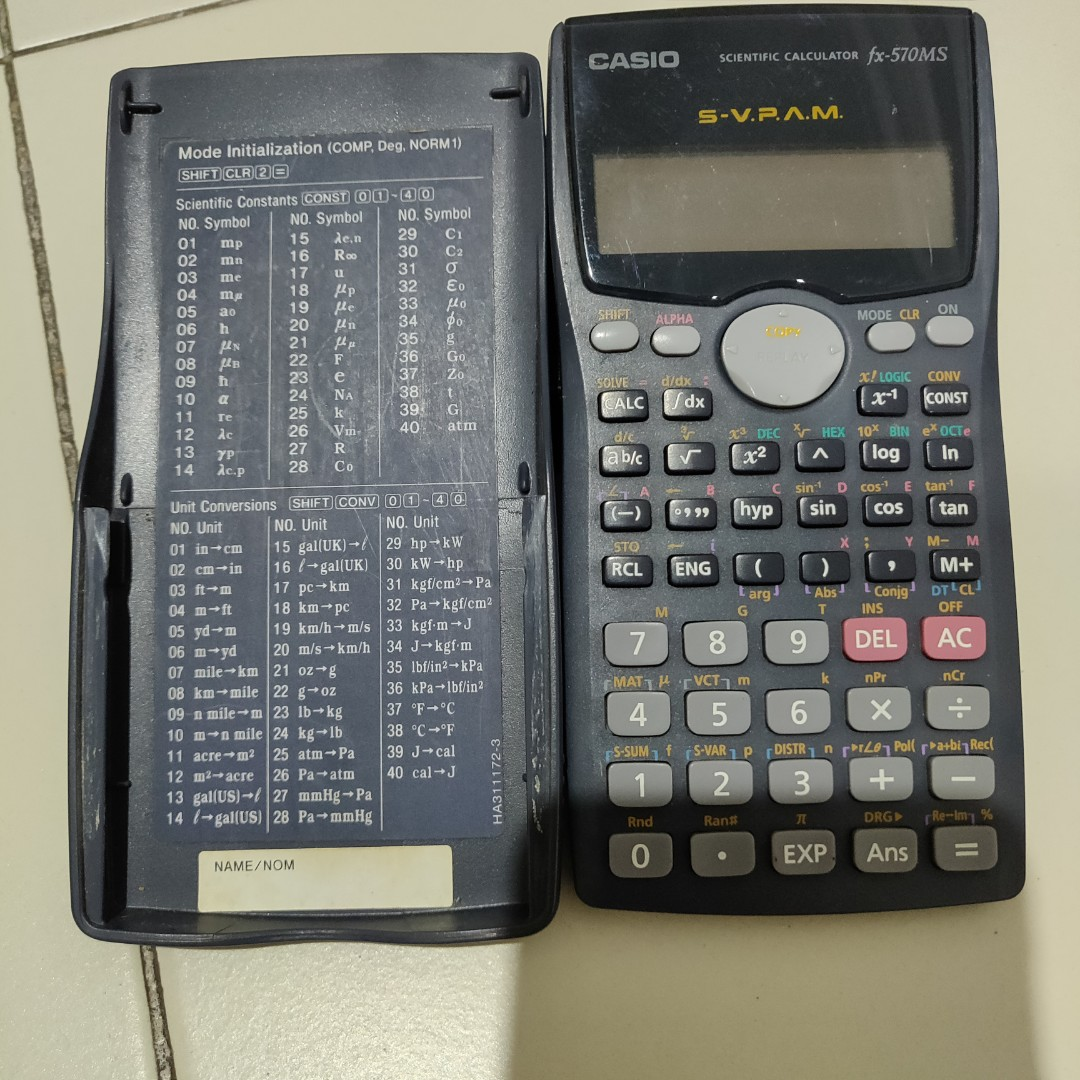Calculator: (533, 10, 1035, 920)
